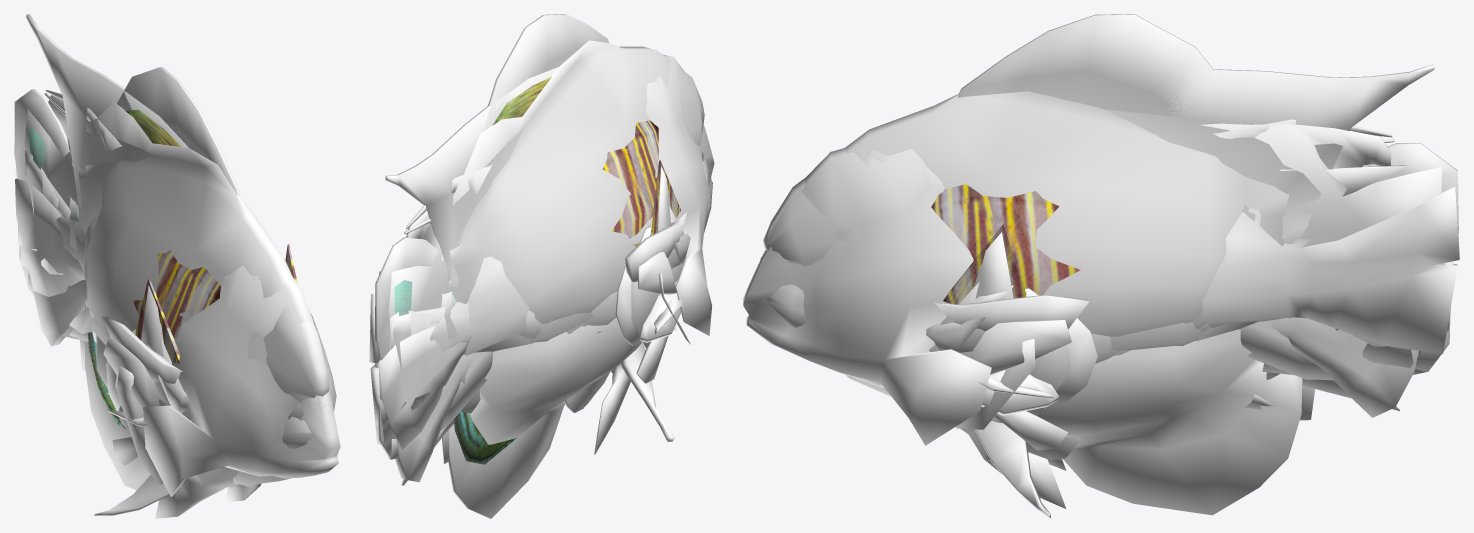
File: TropicalFish01.glb
3 renders of one model, left to right at view 1: azimuth 30°, elevation 25°; view 2: azimuth 150°, elevation 25°; view 3: azimuth 270°, elevation 25°, orthographic. The views are drawn at different scales.
Visible parts, largest first — view 1: TropicalFish11, TropicalFish06, TropicalFish05, TropicalFish15, TropicalFish01, TropicalFish08, TropicalFish03, TropicalFish09, TropicalFish13, TropicalFish10, TropicalFish02, TropicalFish04 (+1 smaller); view 2: TropicalFish11, TropicalFish05, TropicalFish06, TropicalFish15, TropicalFish01, TropicalFish08, TropicalFish09, TropicalFish03, TropicalFish02, TropicalFish10, TropicalFish12, TropicalFish13 (+2 smaller); view 3: TropicalFish05, TropicalFish11, TropicalFish06, TropicalFish09, TropicalFish15, TropicalFish03, TropicalFish01, TropicalFish08, TropicalFish13, TropicalFish12, TropicalFish10, TropicalFish02.
Boxes of the visible parts, <box> form: TropicalFish11: <box>14,89,329,486</box>; TropicalFish06: <box>45,90,340,496</box>; TropicalFish05: <box>33,67,260,518</box>; TropicalFish15: <box>26,14,189,516</box>; TropicalFish01: <box>30,109,297,428</box>; TropicalFish08: <box>15,178,138,465</box>; TropicalFish03: <box>18,95,306,420</box>; TropicalFish09: <box>15,167,313,449</box>; TropicalFish13: <box>28,271,291,485</box>; TropicalFish10: <box>26,157,293,357</box>; TropicalFish02: <box>25,150,191,426</box>; TropicalFish04: <box>69,197,183,405</box>; TropicalFish11: <box>375,40,705,412</box>; TropicalFish05: <box>395,14,680,518</box>; TropicalFish06: <box>406,54,714,430</box>; TropicalFish15: <box>385,67,690,463</box>; TropicalFish01: <box>394,76,680,464</box>; TropicalFish08: <box>375,291,668,449</box>; TropicalFish09: <box>369,159,708,445</box>; TropicalFish03: <box>375,75,703,485</box>; TropicalFish02: <box>390,265,682,354</box>; TropicalFish10: <box>393,167,670,409</box>; TropicalFish12: <box>566,266,641,345</box>; TropicalFish13: <box>389,273,690,459</box>; TropicalFish05: <box>957,14,1418,515</box>; TropicalFish11: <box>760,91,1458,460</box>; TropicalFish06: <box>743,119,1392,445</box>; TropicalFish09: <box>767,165,1459,374</box>; TropicalFish15: <box>926,64,1434,518</box>; TropicalFish03: <box>834,123,1450,410</box>; TropicalFish01: <box>931,184,1080,304</box>; TropicalFish08: <box>995,261,1453,450</box>; TropicalFish13: <box>845,338,1426,429</box>; TropicalFish12: <box>1052,318,1097,403</box>; TropicalFish10: <box>974,232,1209,331</box>; TropicalFish02: <box>869,321,1385,398</box>.
Size of the model in its own units: 191 by 389 by 506.
15 materials, 1 textured.
